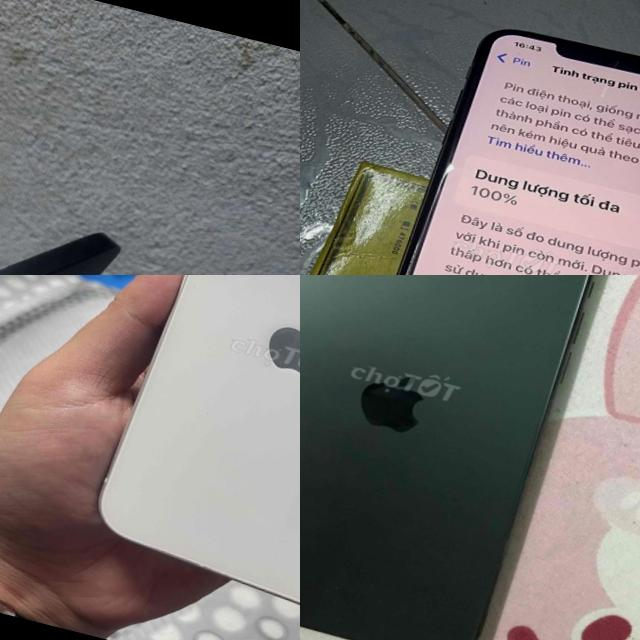gen_11: (300, 275, 614, 640)
gen_12_13: (83, 275, 300, 633)
gen_x_xs: (347, 9, 640, 275)
